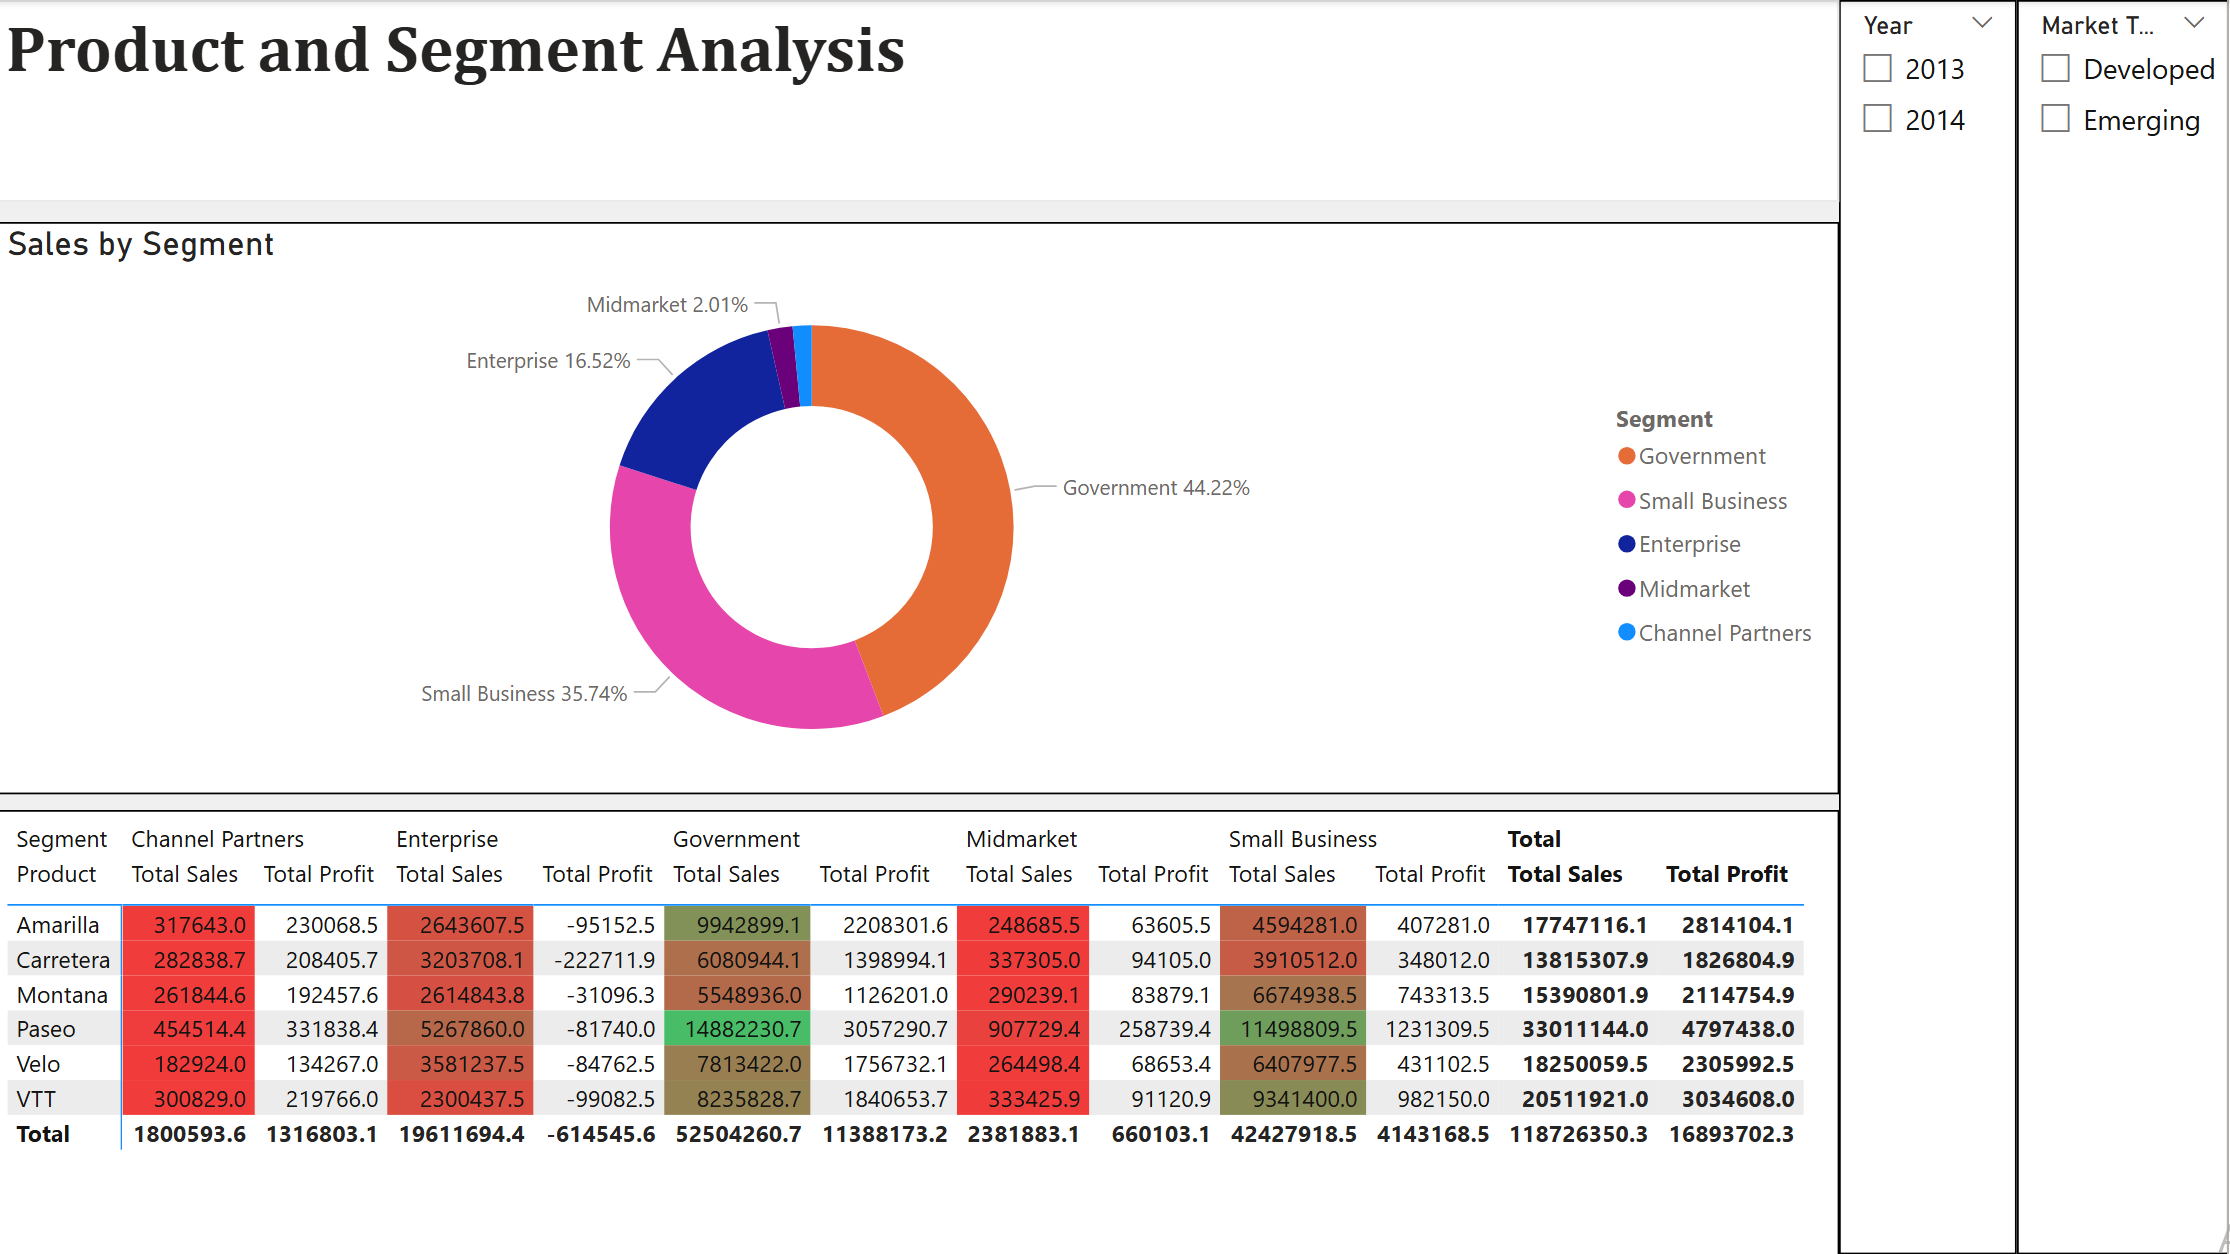

Layout of this report page (visuals, bound fields, positions):
{"tool":"powerbi","page":{"name":"Product Analysis","canvas":[1280,720],"ordinal":1},"visuals":[{"type":"pivotTable","fields":{"Rows":["financials.Product"],"Columns":["financials.Segment"],"Values":["financials.Total Sales","financials.Total Profit"]},"box":[0,464.9,1057.3,256],"z":0},{"type":"donutChart","title":"Sales by Segment","fields":{"Category":["financials.Segment"],"Y":["financials.Total Sales"]},"box":[0,127.4,1057.3,328.3],"z":1000},{"type":"slicer","fields":{"Values":["financials.Year"]},"box":[1057.3,0,102.2,719.8],"z":2000},{"type":"textbox","box":[0,0,1057.3,115.9],"z":3000},{"type":"slicer","fields":{"Values":["Countries.Market Type"]},"box":[1159.5,0,121.7,719.8],"z":3001}]}

Visuals, with their boxes on the page's 1280x720 design canvas (x1, y1, x2, y2). These are canvas units, not pixel positions in the 2230x1254 screenshot, which may show the page scaled, cropped or inside an application window:
pivotTable - financials.Product x financials.Segment: bbox(0, 465, 1057, 721)
"Sales by Segment" donutChart: bbox(0, 127, 1057, 456)
slicer - financials.Year: bbox(1057, 0, 1160, 720)
textbox: bbox(0, 0, 1057, 116)
slicer - Countries.Market Type: bbox(1160, 0, 1281, 720)
